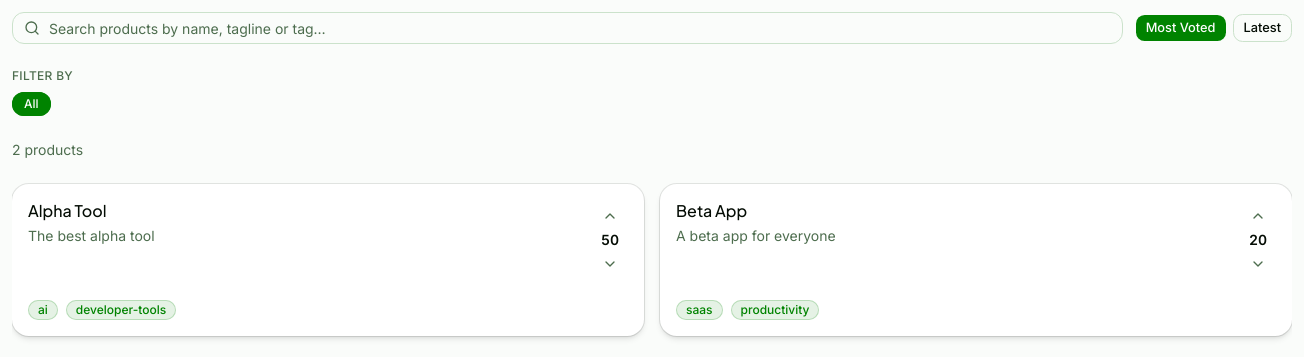
Scenario: ProductGrid › filters products by search query
In the field with placeholder "Search products by name, tagline or tag…": (567, 28) [12,12,1123,44], type "Alpha"
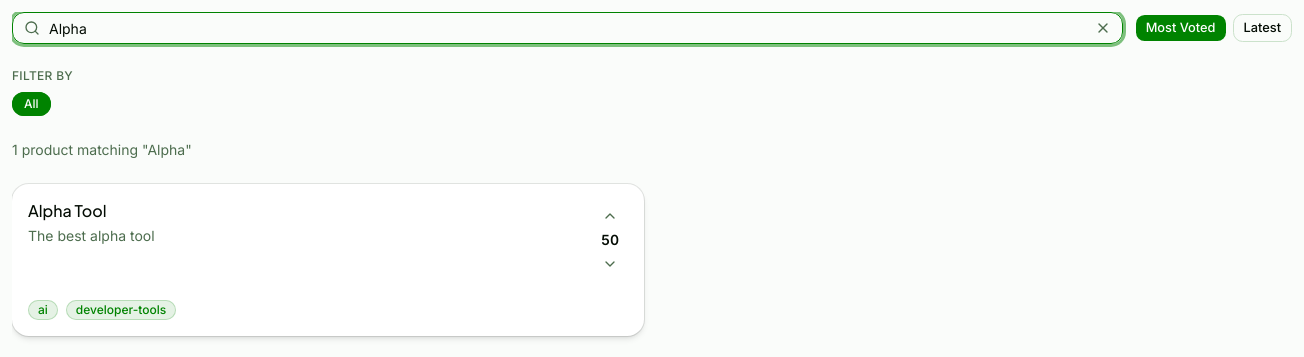
Expected: the text "Alpha Tool" is shown, [28,200,106,221]
Now the link "Beta App" is gone
